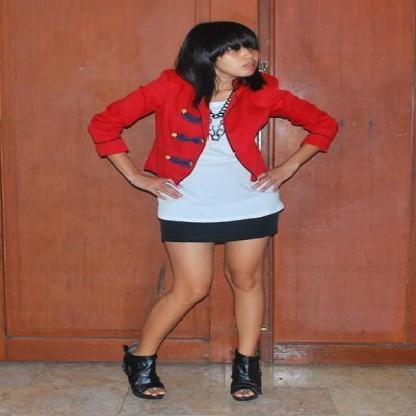jacket: (88, 68, 337, 184)
shirt: (158, 91, 283, 222)
shoe: (122, 345, 261, 401)
skirt: (158, 209, 283, 244)
